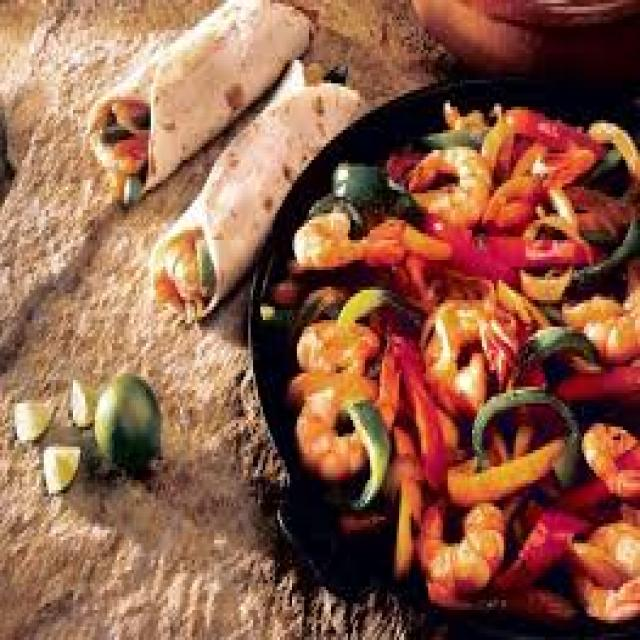organic waste: (255, 93, 638, 620), (148, 56, 362, 306), (83, 0, 316, 200), (487, 437, 638, 610), (288, 337, 407, 473), (411, 214, 601, 294), (382, 323, 455, 497), (416, 290, 518, 403), (467, 387, 572, 490), (411, 487, 504, 600), (443, 430, 586, 503), (526, 437, 638, 530), (489, 504, 596, 594), (570, 517, 638, 620), (484, 273, 545, 380), (93, 370, 158, 470), (557, 284, 638, 364), (538, 176, 638, 236), (406, 147, 484, 223), (570, 203, 638, 290), (382, 250, 494, 300), (545, 354, 638, 414), (484, 94, 594, 144), (579, 416, 638, 496), (285, 207, 370, 260), (256, 276, 343, 326), (348, 390, 384, 510), (294, 320, 375, 370), (362, 216, 440, 266), (518, 314, 592, 364), (582, 117, 638, 180), (504, 577, 584, 620), (511, 257, 569, 310), (329, 153, 382, 210), (389, 474, 418, 574), (382, 417, 419, 490), (576, 134, 620, 194), (326, 496, 392, 536), (489, 127, 533, 183), (380, 140, 421, 190), (39, 443, 80, 487), (416, 127, 494, 150), (163, 236, 192, 296), (9, 397, 54, 433), (107, 127, 144, 170), (302, 187, 350, 220), (64, 370, 92, 423), (83, 117, 124, 150), (107, 94, 151, 124), (192, 227, 210, 293), (153, 266, 180, 306), (443, 100, 479, 127), (319, 53, 343, 87), (178, 287, 202, 320), (98, 157, 120, 193), (119, 166, 134, 206), (302, 60, 316, 83)
